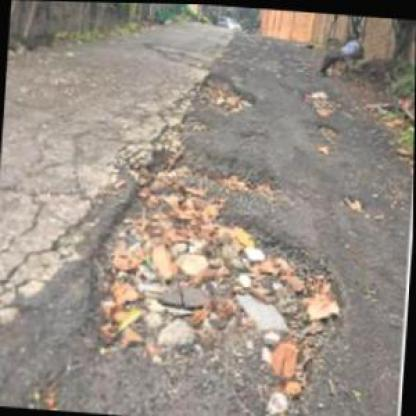pothole: (72, 134, 358, 414), (190, 69, 259, 115), (298, 82, 341, 112), (316, 118, 341, 139)
